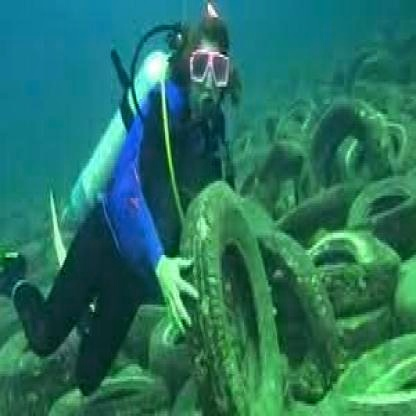tire: (168, 185, 279, 416), (258, 213, 345, 384), (294, 223, 406, 307), (305, 94, 405, 186), (326, 332, 416, 416), (1, 315, 82, 406), (54, 364, 173, 416), (352, 164, 416, 242), (251, 136, 315, 208), (146, 305, 202, 369)
